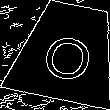O_N: (37, 23, 96, 82)
